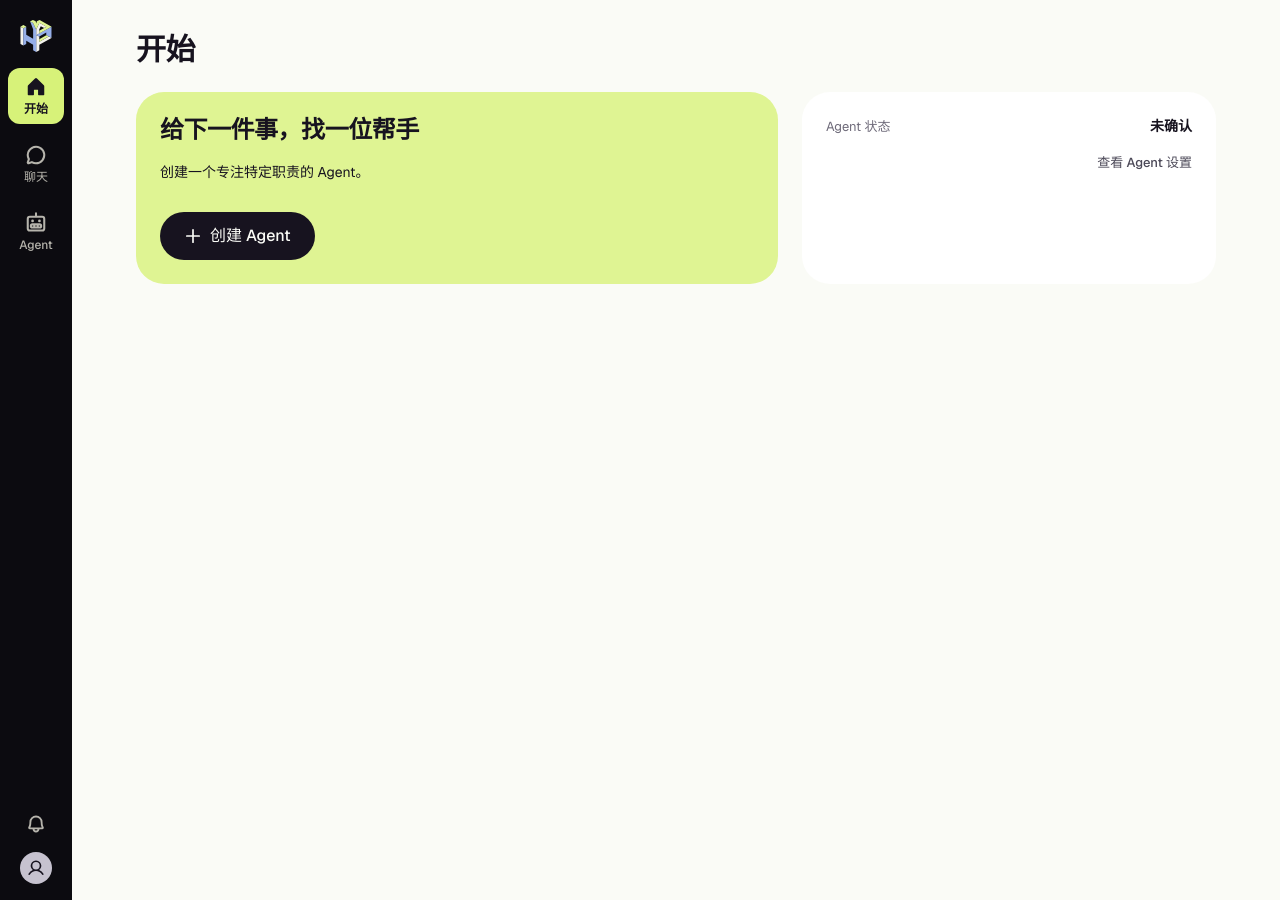
Test case: agents page create/stop wiring (implG2) › a taken name keeps the form open with the contract wording
Click the button "Agent" at (36, 232), box [8, 204, 64, 260]
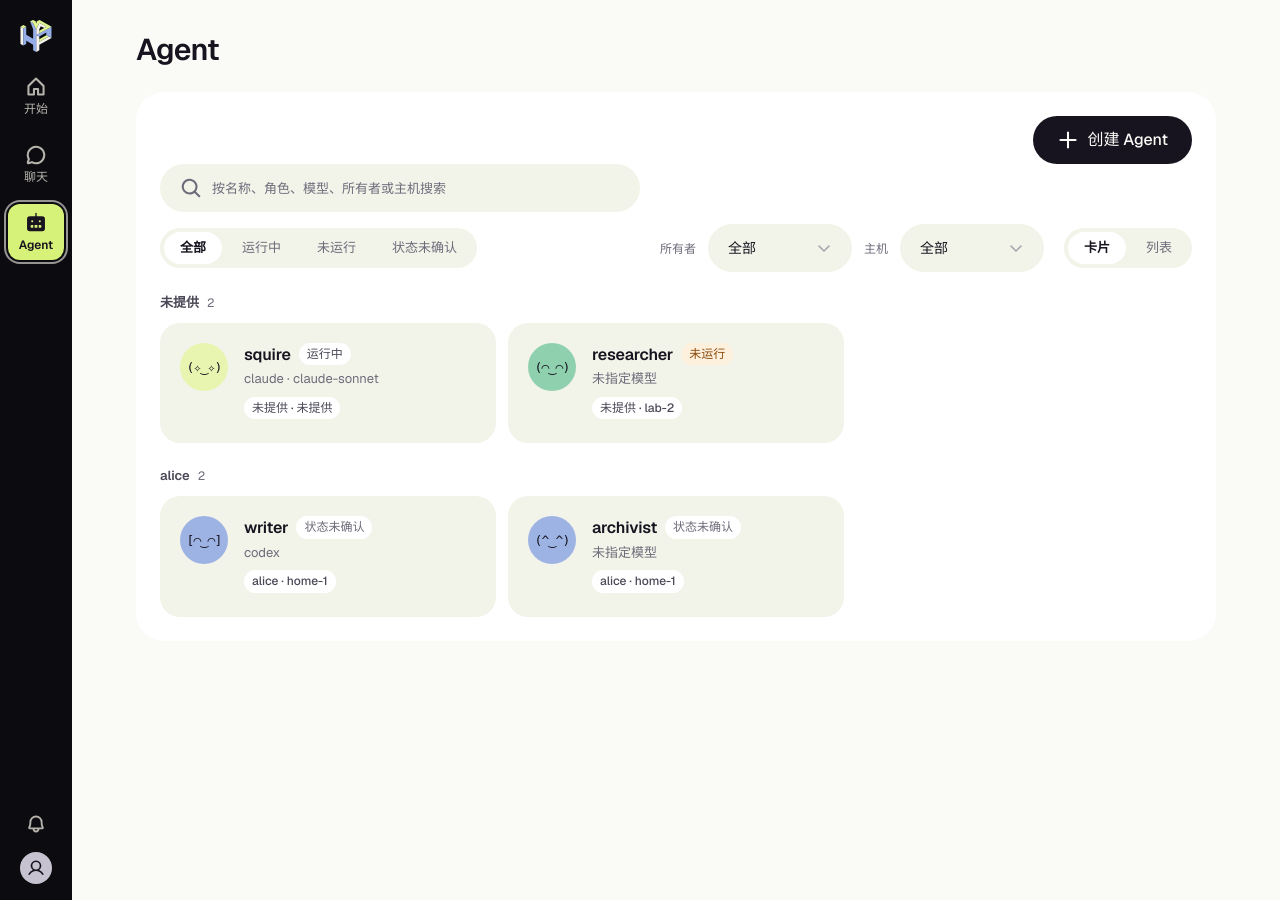
Expected: the button with test id "contact-squire" is shown, [160, 323, 496, 443]
Click the button "创建 Agent" at (1113, 140), box [1033, 116, 1192, 164]
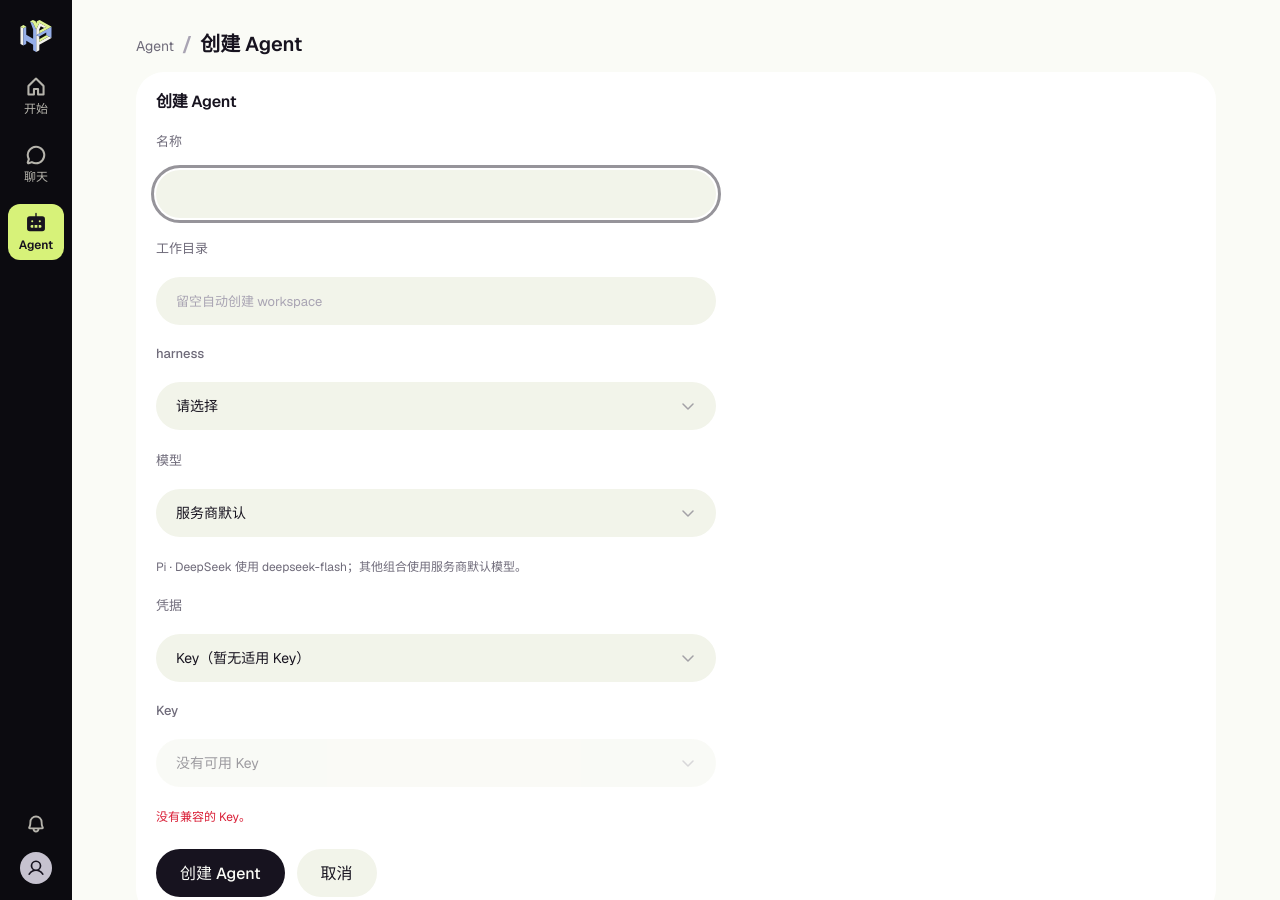
Type "worker" into the field labelled "名称" at (436, 194), box [156, 170, 716, 218]
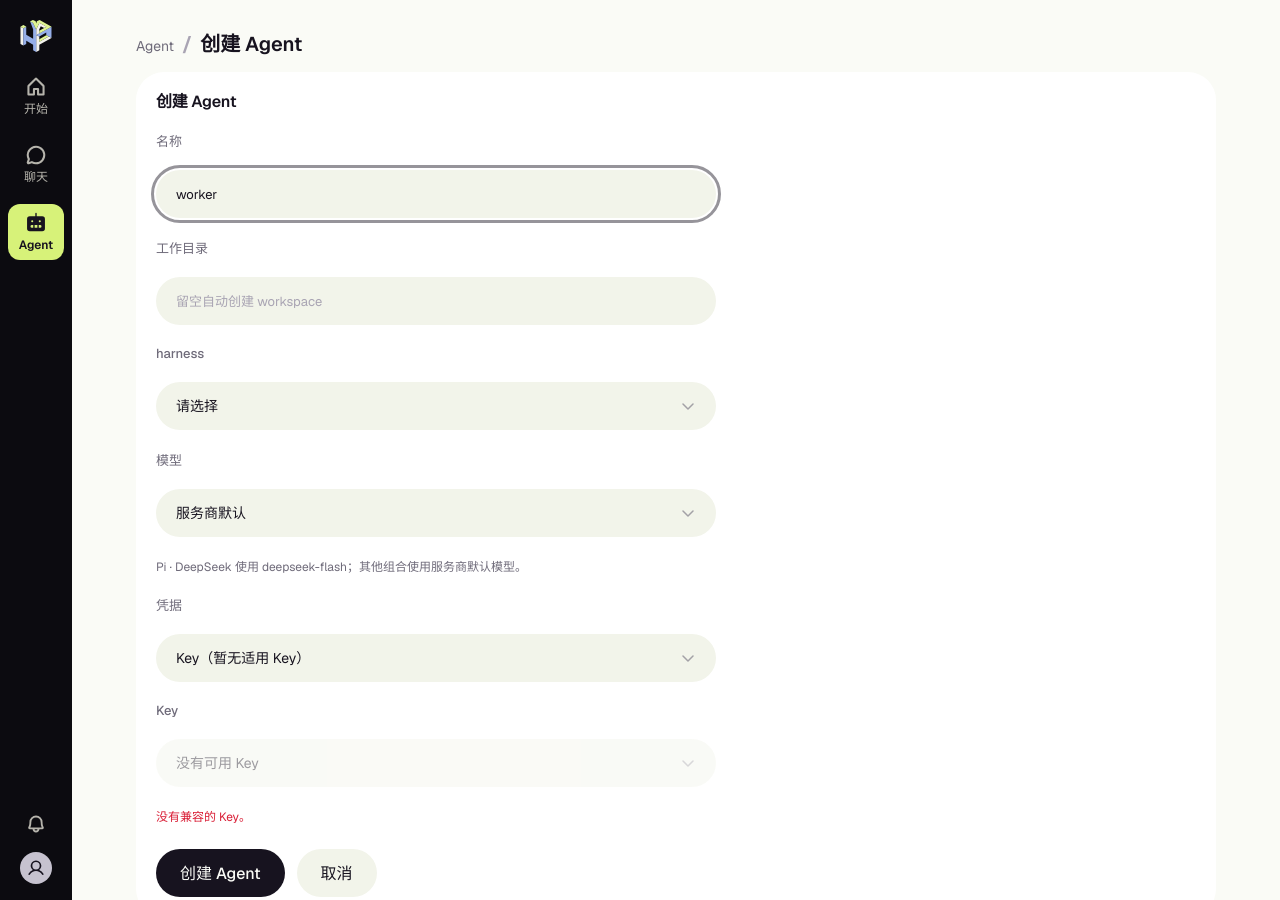
Click the dropdown named "harness" at (197, 406), box [156, 382, 716, 430]
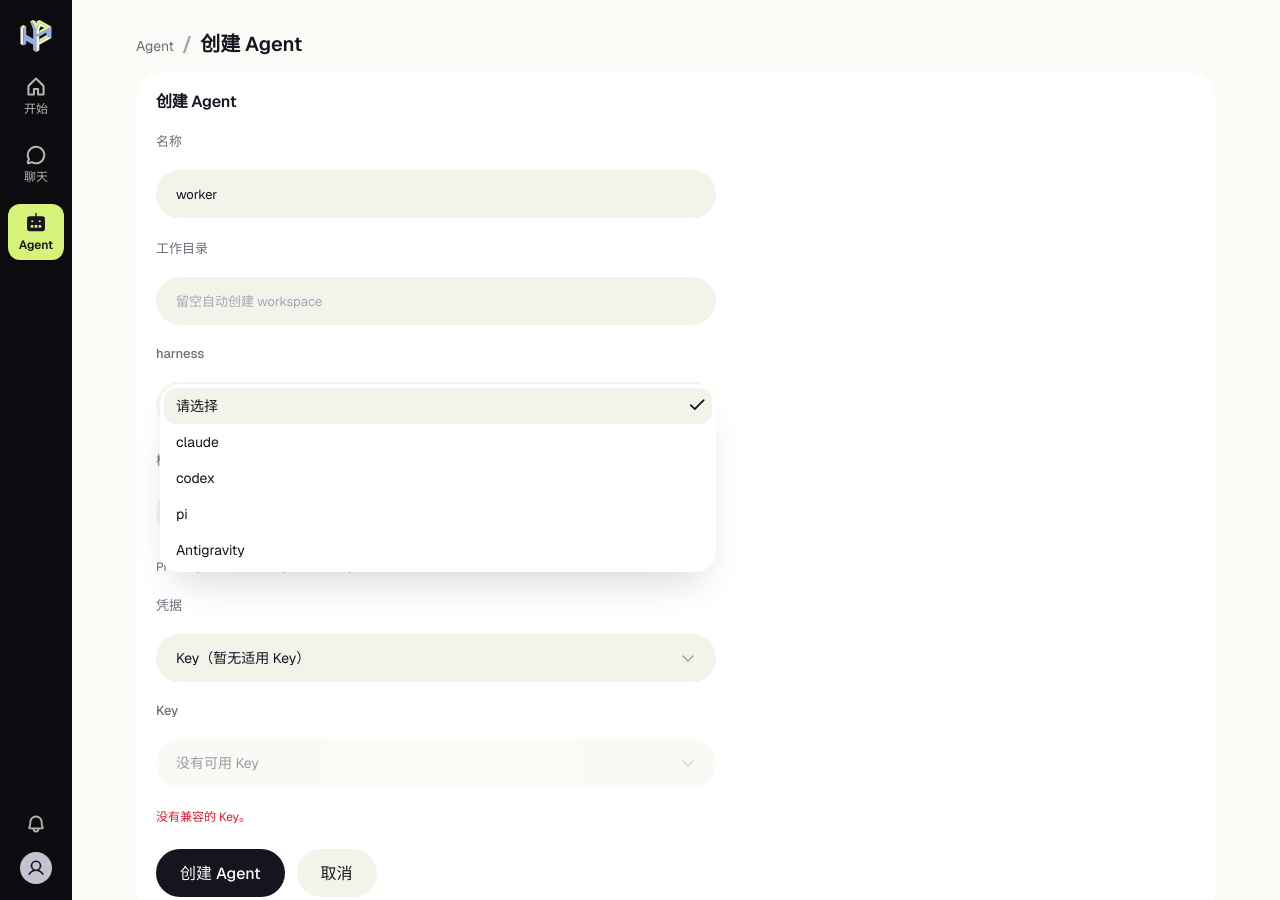
Click the option "claude" at (197, 442), box [176, 433, 219, 451]
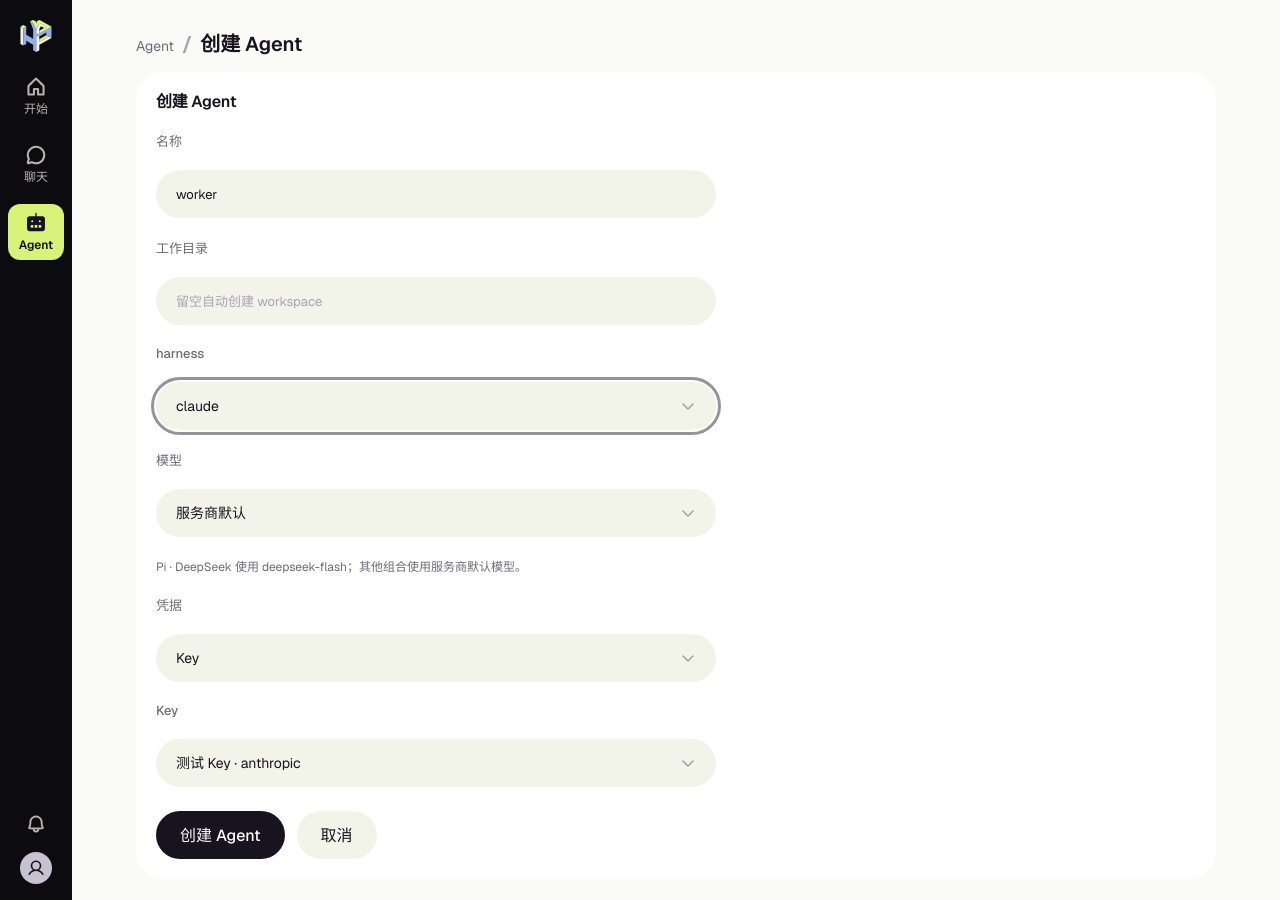
Click the button "创建 Agent" at (220, 835), box [156, 811, 285, 859]
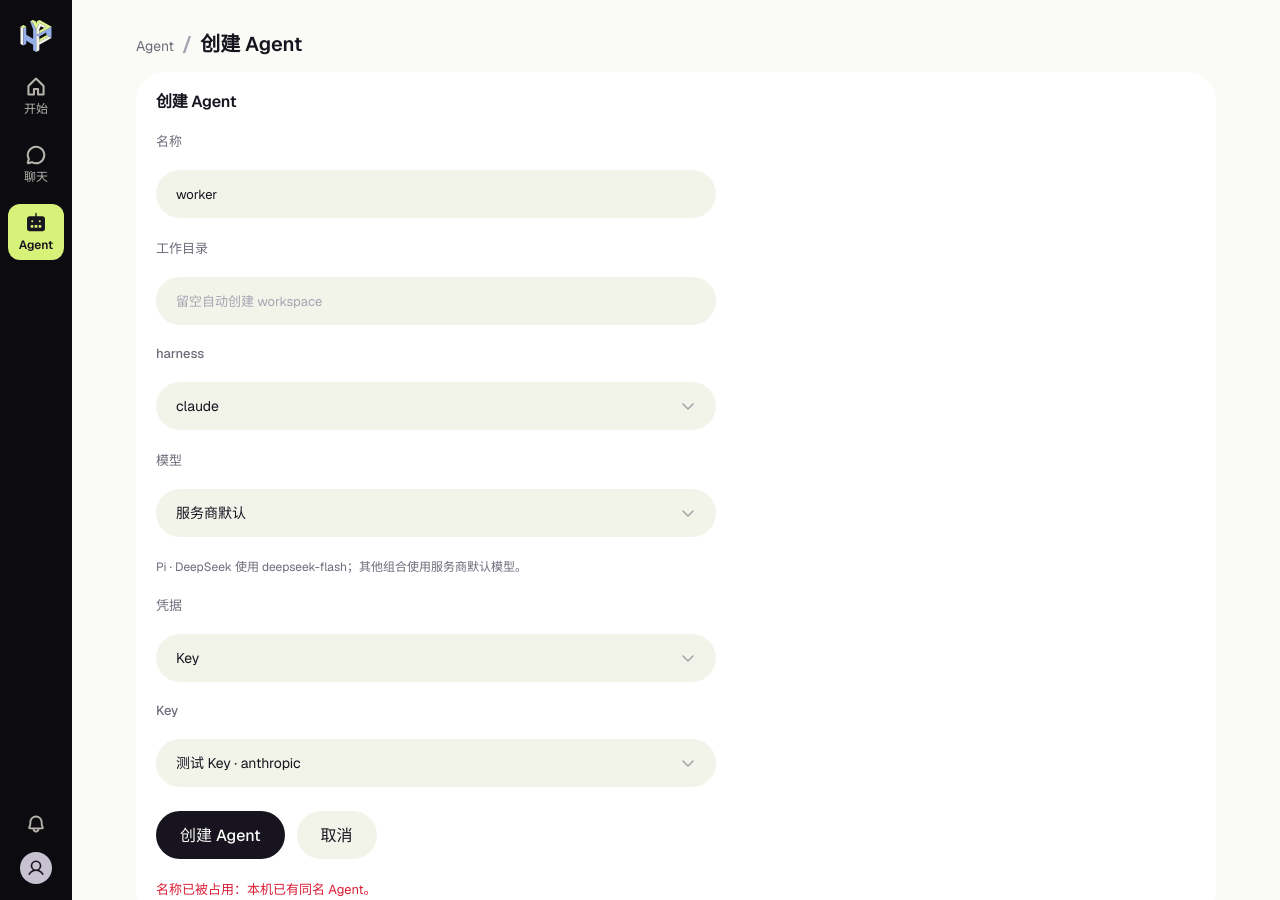
Expected: the text "名称已被占用：本机已有同名 Agent。" is shown, [156, 881, 377, 898]
